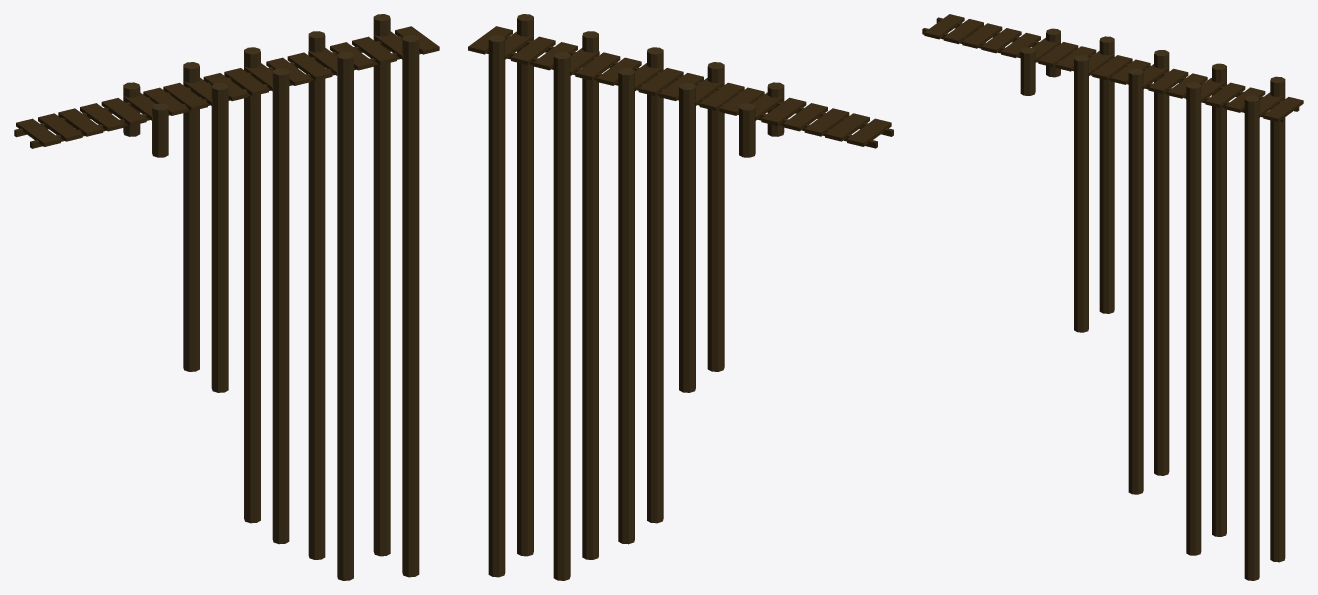
The model's file is lpBridge.gltf.
3 renders of one model, left to right at view 1: azimuth 30°, elevation 25°; view 2: azimuth 150°, elevation 25°; view 3: azimuth 330°, elevation 25°, orthographic. The views are drawn at different scales.
Parts seen in each view (by area): view 1: logs, planks; view 2: logs, planks; view 3: logs, planks.
Part boxes in pixels (x1,y1,x2,y2): logs: (123,14,419,580); planks: (14,26,439,148); logs: (488,14,784,580); planks: (468,26,893,148); logs: (1020,28,1285,580); planks: (922,14,1303,122).
Size of the model in its own units: 2.94 by 3.73 by 0.4706.
